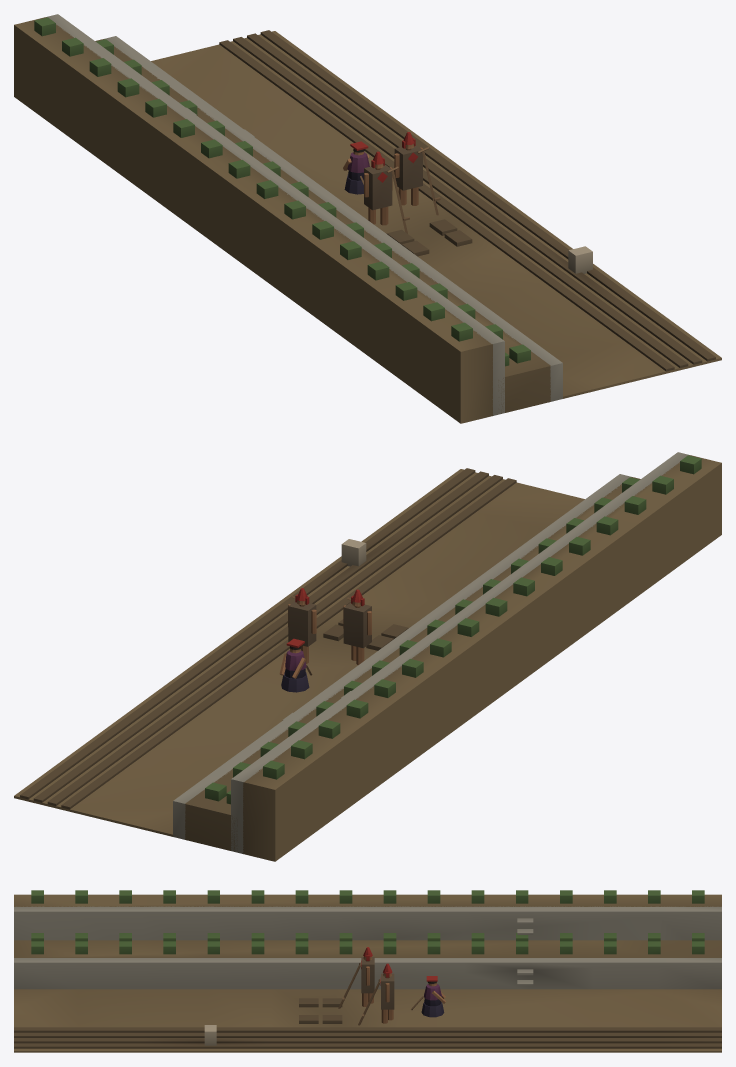
File: farmer.glb
The picture shows the model from 3 angles, top to bottom: view 1: azimuth 30°, elevation 25°; view 2: azimuth 150°, elevation 25°; view 3: azimuth 270°, elevation 25°; orthographic projection. The views are drawn at different scales.
Parts seen in each view (by area): view 1: base, anim_walk; view 2: base, anim_walk; view 3: base, anim_walk.
Part boxes in pixels (x1,y1,x2,y2): base: [14, 14, 721, 423]; anim_walk: [343, 132, 472, 256]; base: [14, 452, 721, 861]; anim_walk: [279, 588, 408, 692]; base: [14, 890, 721, 1052]; anim_walk: [299, 947, 445, 1025].
Size of the model in its own units: 6.07 by 1.83 by 18.
